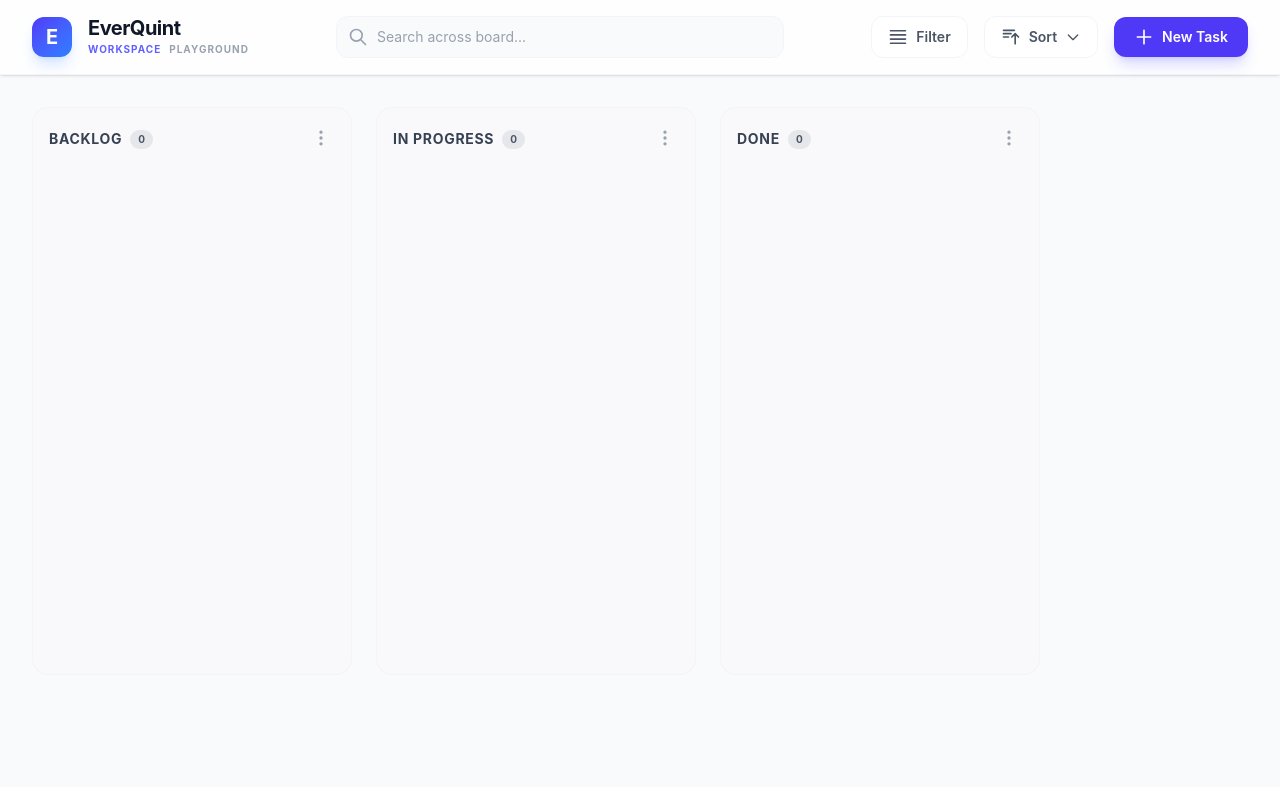
it: Workflow: Task Creation › should create a new task and show it on the board
Expected: the heading "Backlog" is shown, x1=49 y1=129 x2=122 y2=149
Note: Click New Task button
Click the button "New Task".
click(1181, 37)  # box x1=1114 y1=17 x2=1248 y2=57
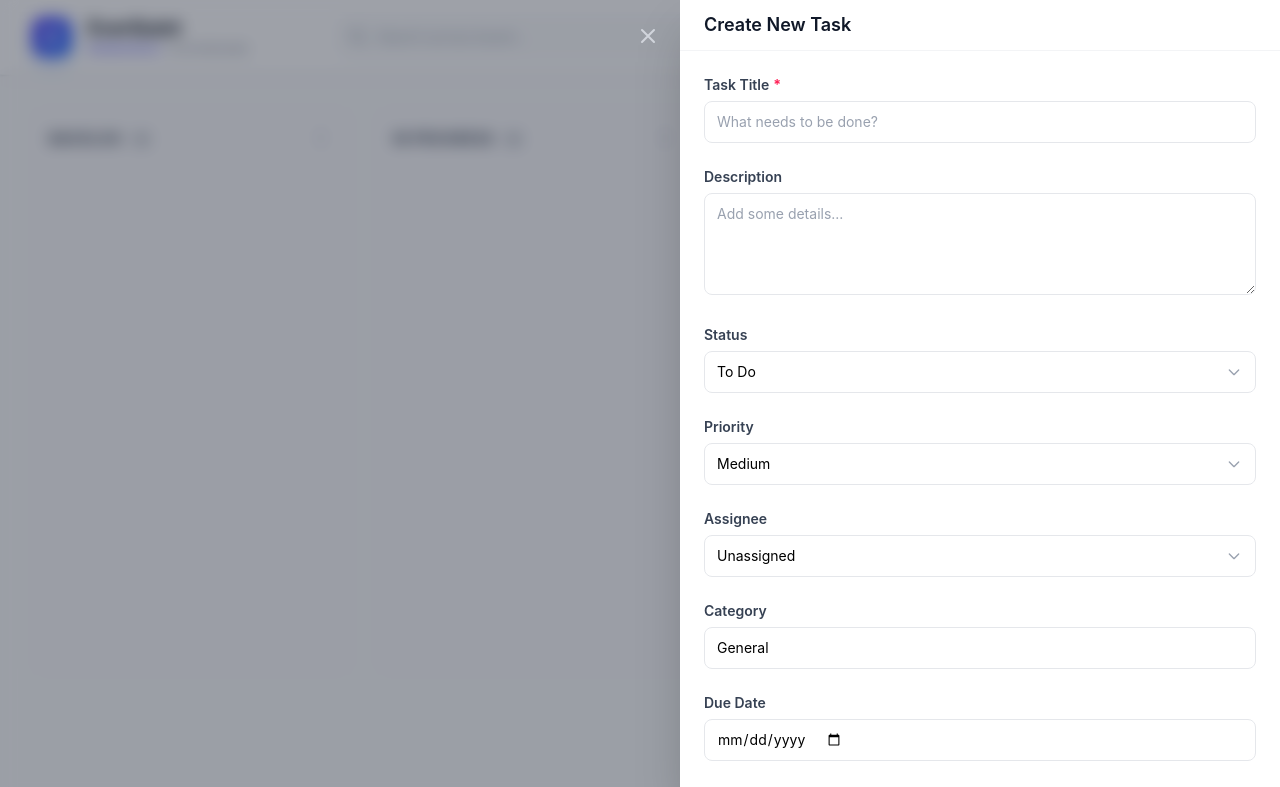
Type "Test Workflow Task" into the field labelled "Task Title *".
click(980, 122); type("Test Workflow Task")  # box x1=704 y1=101 x2=1256 y2=143
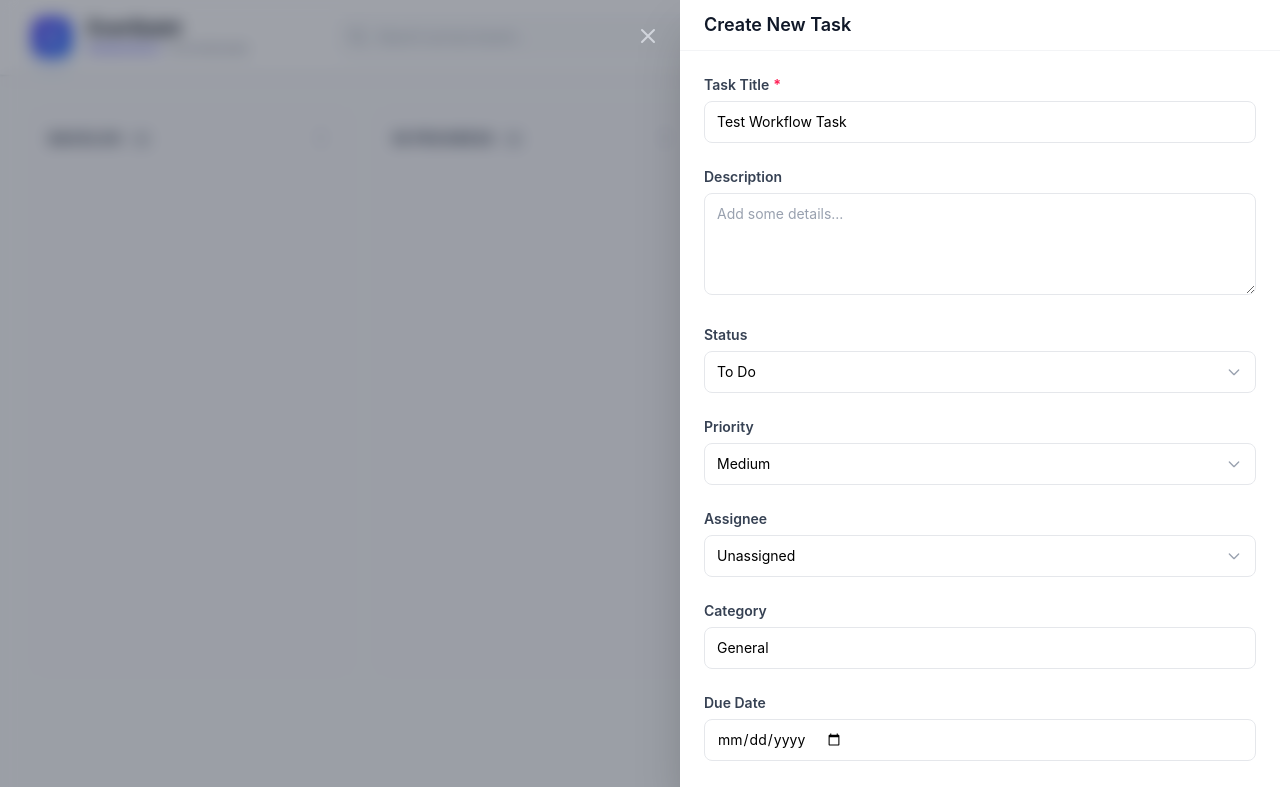
Type "Successfully created via RTL" into the text box labelled "Description".
click(980, 244); type("Successfully created via RTL")  # box x1=704 y1=193 x2=1256 y2=295
(page scrolled)
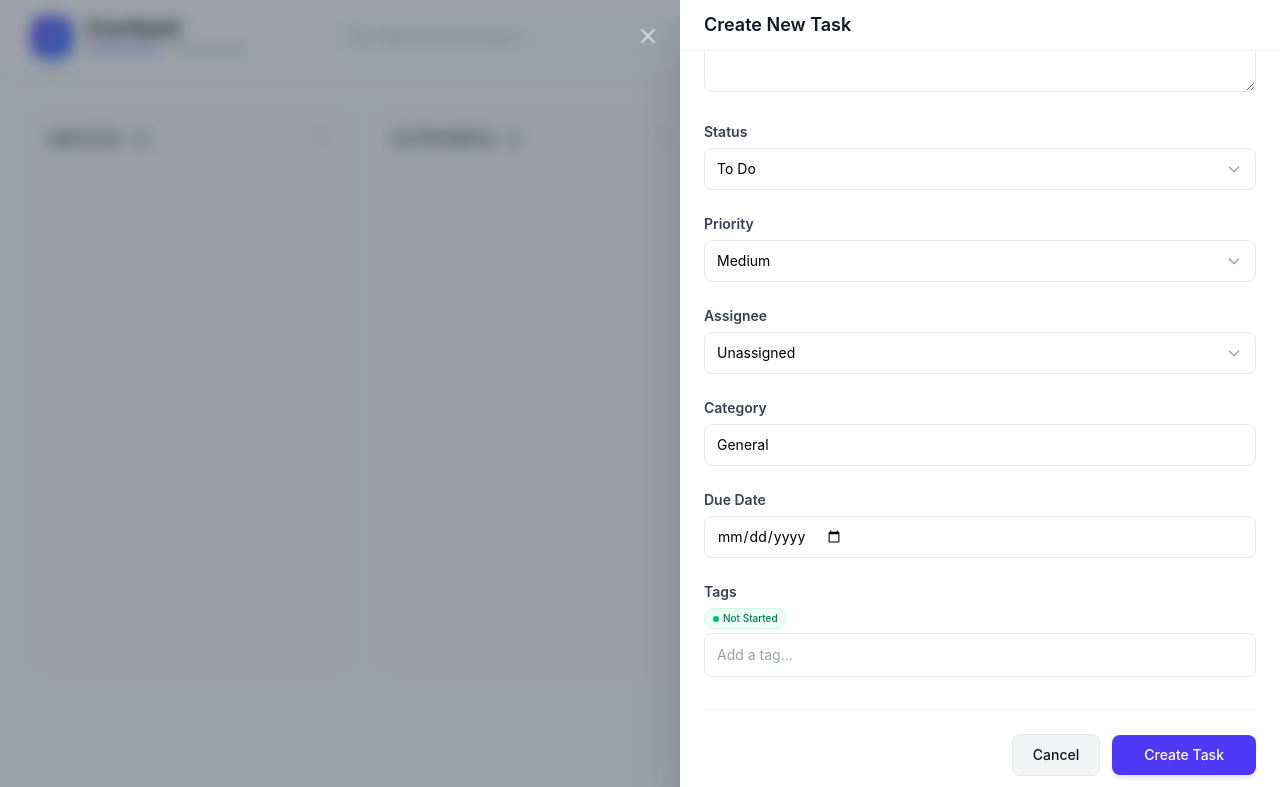
Note: 3. Submit
Click the button "Create Task".
click(1184, 755)  # box x1=1112 y1=735 x2=1256 y2=775
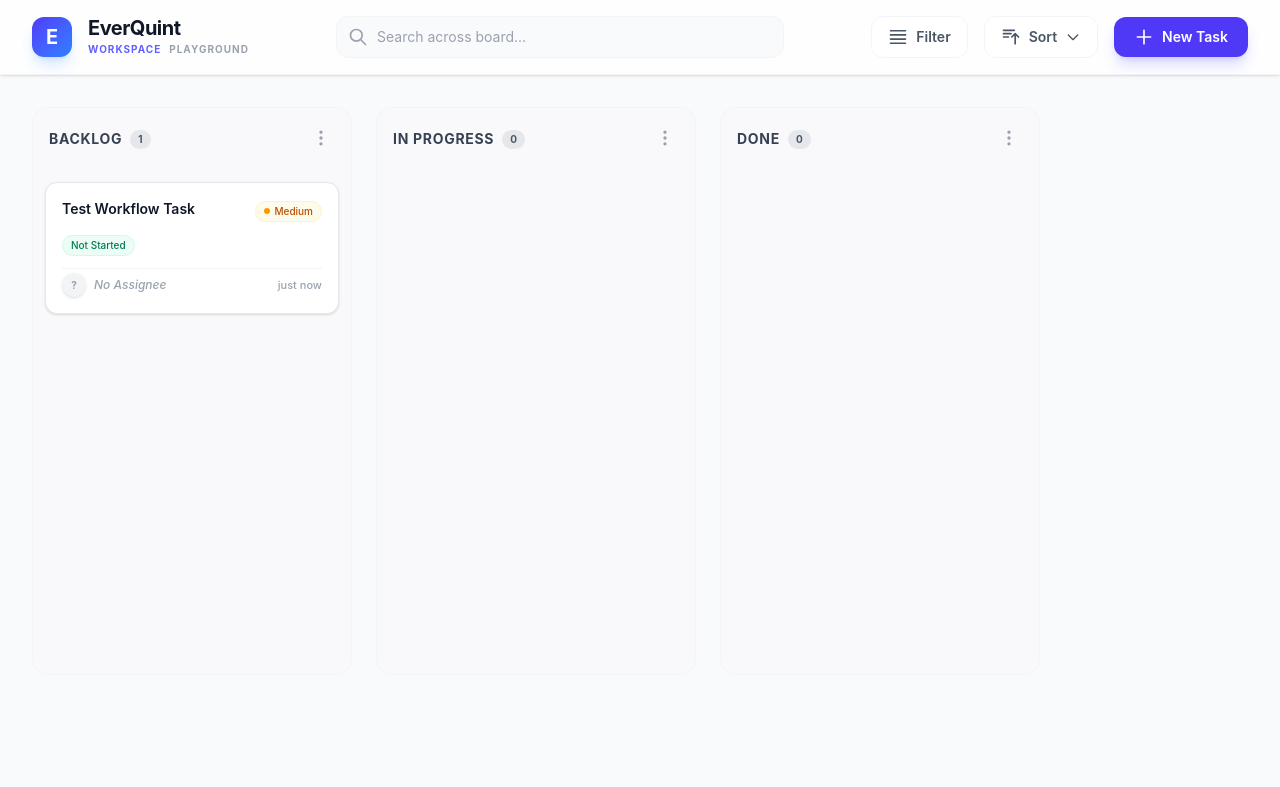
Expected: the heading "Test Workflow Task" is shown, x1=62 y1=199 x2=195 y2=218
